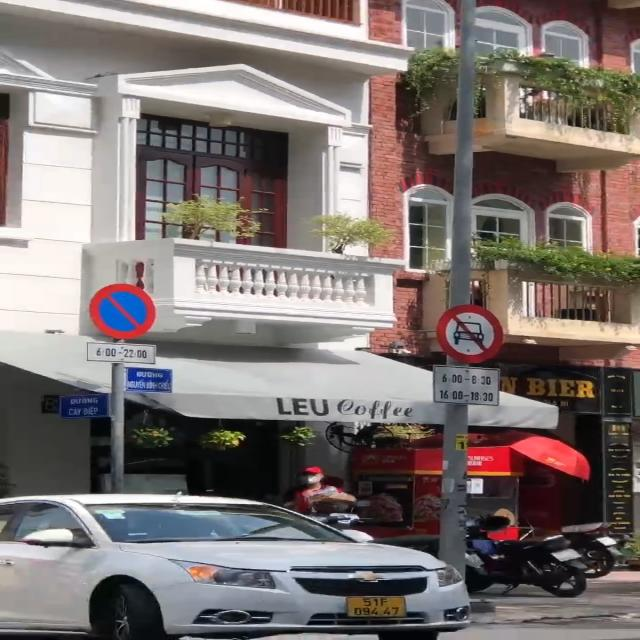Bien bao cam do xe: (90, 277, 168, 342)
Bien bao cam xe oto: (431, 299, 515, 364)
